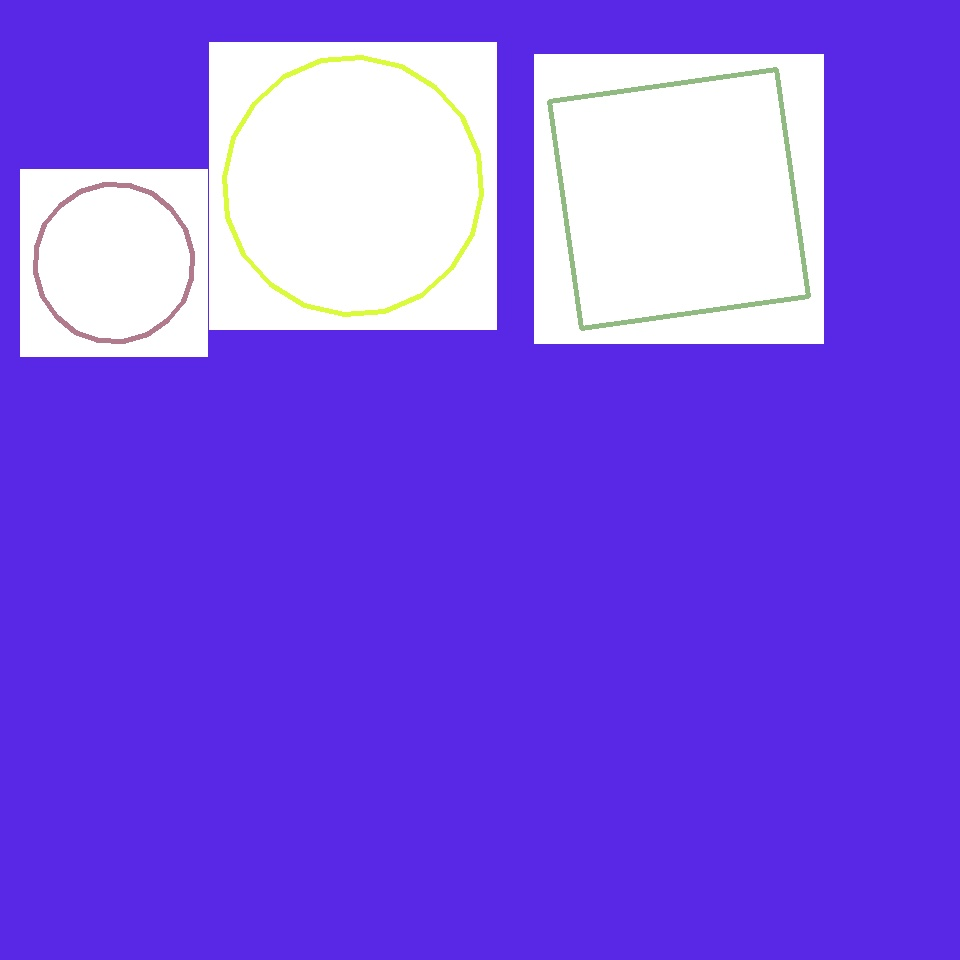circle: (230, 565, 544, 879), (164, 599, 428, 881), (142, 70, 266, 192)
square: (550, 70, 808, 328), (250, 208, 393, 350)
triangle: (564, 84, 876, 396), (225, 58, 482, 314), (35, 184, 192, 342)
